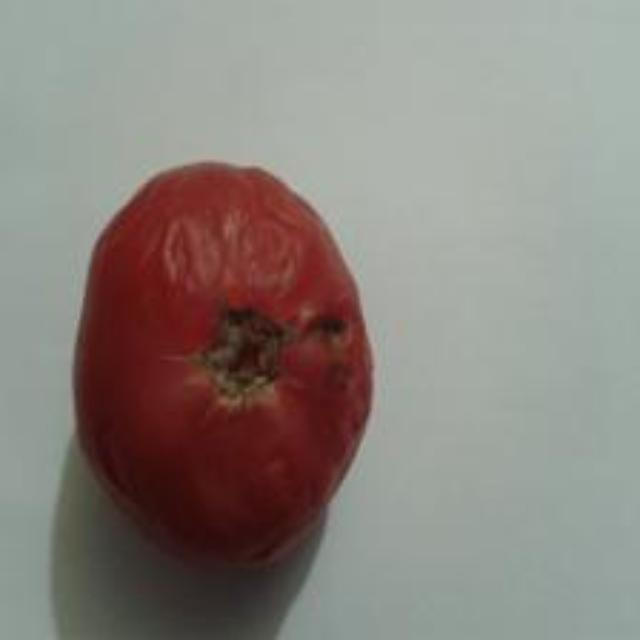defect: (67, 154, 381, 575)
